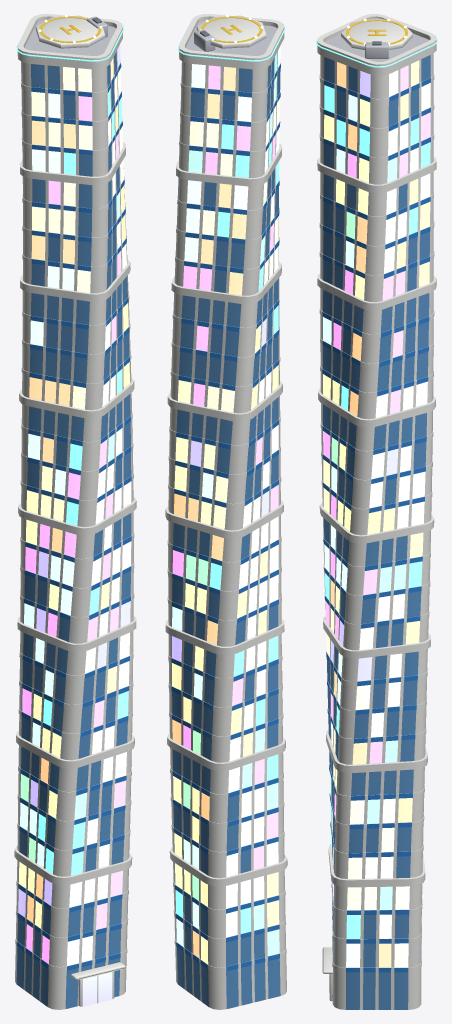
Rendered from arranha_ceu_torcida_heliponto.glb.
3 views of the same model, side by side, from view 1: azimuth 30°, elevation 25°; view 2: azimuth 210°, elevation 25°; view 3: azimuth 270°, elevation 25° (orthographic).
Parts seen in each view (by area): view 1: arranha_ceu_torcida_heliponto; view 2: arranha_ceu_torcida_heliponto; view 3: arranha_ceu_torcida_heliponto.
Part boxes in pixels (left/top/right/bottom): arranha_ceu_torcida_heliponto: left=14, top=14, right=136, bottom=1009; arranha_ceu_torcida_heliponto: left=165, top=14, right=287, bottom=1009; arranha_ceu_torcida_heliponto: left=316, top=14, right=437, bottom=1009.
Bounding box in the file's own units: 12.67 × 106 × 12.12.
Materials: 11 (1 with a texture image).
